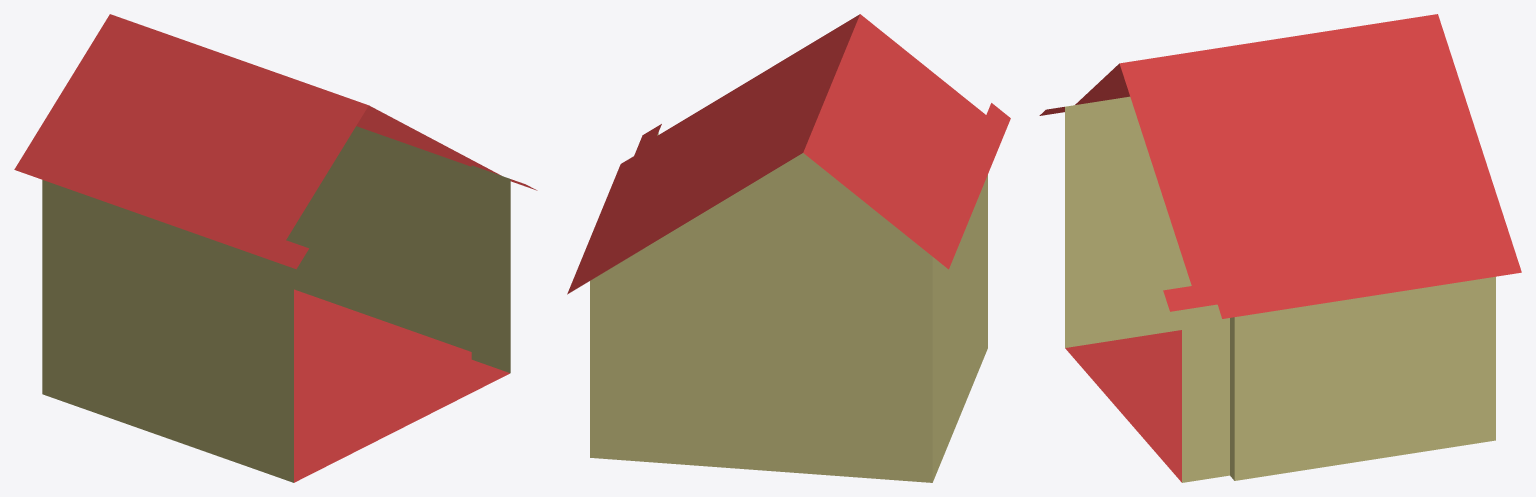
3 renders of one model, left to right at view 1: azimuth 30°, elevation 25°; view 2: azimuth 150°, elevation 25°; view 3: azimuth 270°, elevation 25°, orthographic.
Size of the model in its own units: 18 by 17.94 by 13.73.
